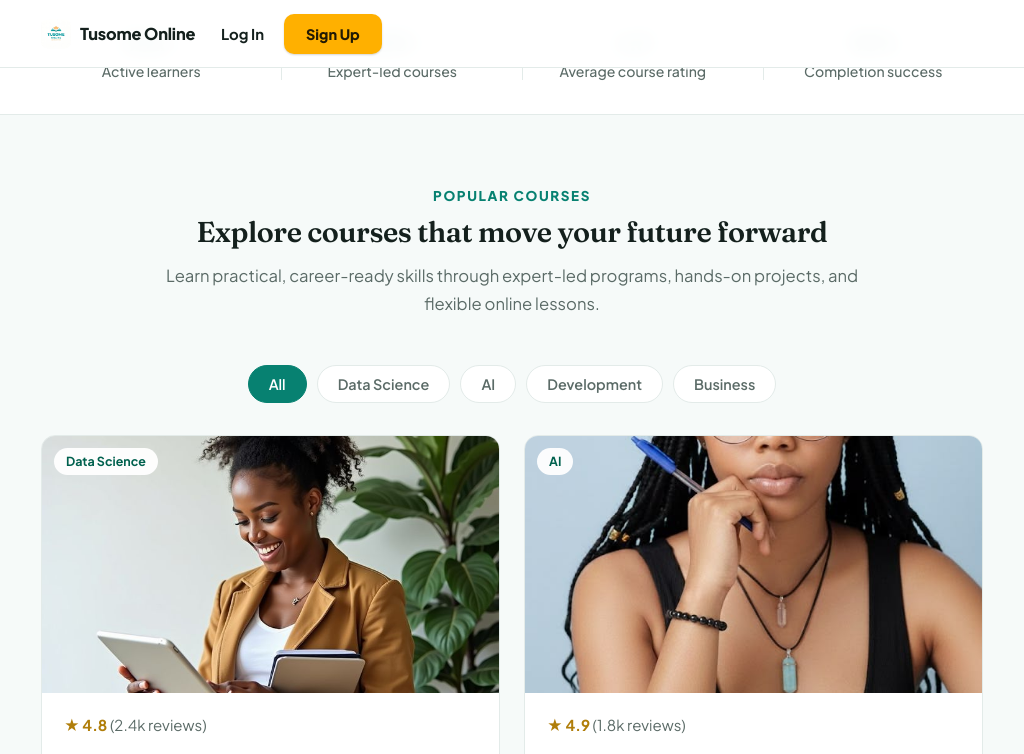
Scenario: Given the landing page › when a category chip is clicked, then only matching courses show
(page scrolled)
Click the tab "Business".
click(725, 384)  # box [673,365,776,403]
(page scrolled)
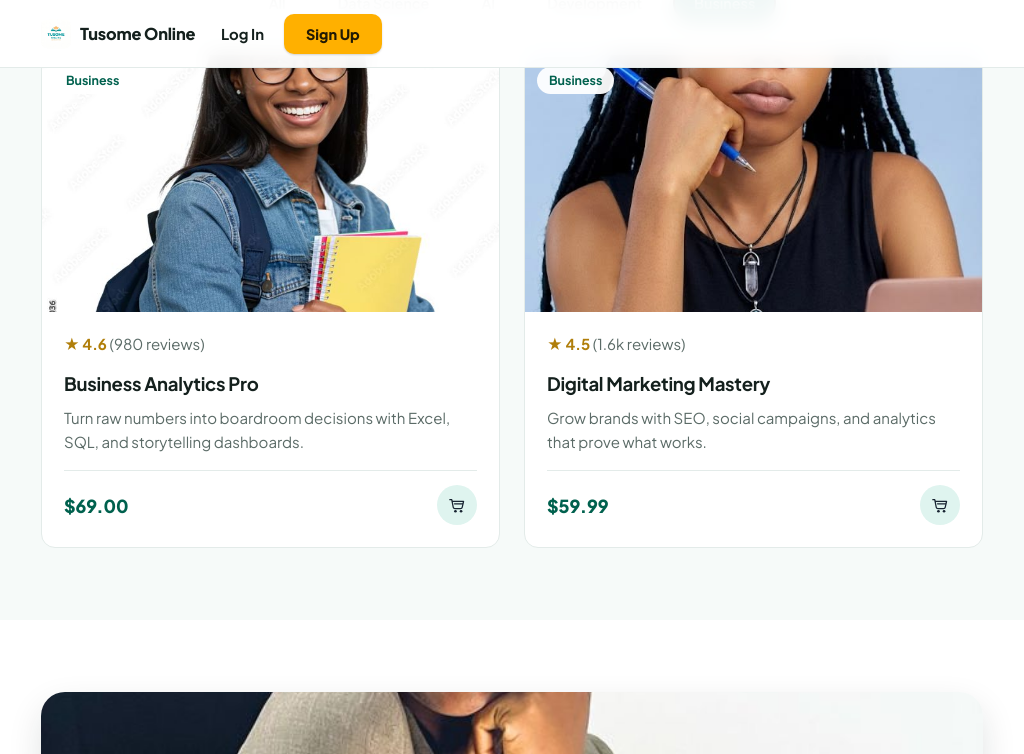
Now the heading "Business Analytics Pro" is shown, box [64,372,259,395]
